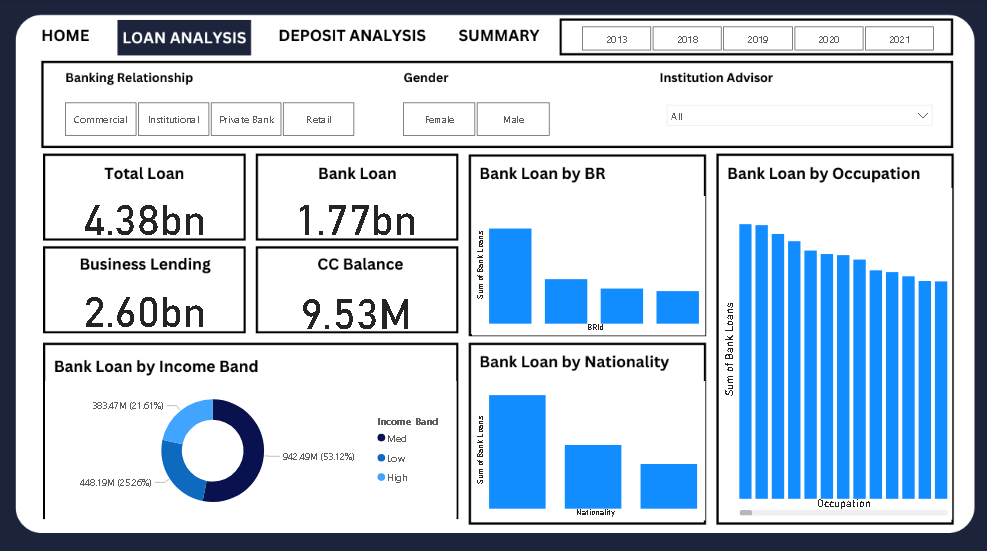

The dashboard page shown, as its layout file describes it:
{"tool":"powerbi","page":{"name":"Loan Analysis","canvas":[1280,720],"ordinal":1},"visuals":[{"type":"slicer","fields":{"Values":["banking_case customer.Year of Joining"]},"box":[727.3,30.2,503.9,45.4],"z":0},{"type":"actionButton","box":[43.7,30.2,94.1,45.4],"z":1000},{"type":"actionButton","box":[354.4,30.2,203.3,45.4],"z":2000},{"type":"actionButton","box":[577.8,30.2,136.1,45.4],"z":3000},{"type":"card","fields":{"Values":["banking_case customer.Total Loan"]},"box":[60.5,245.2,258.7,68.9],"z":4000},{"type":"card","fields":{"Values":["Sum(banking_case customer.Bank Loans)"]},"box":[332.6,245.2,258.7,68.9],"z":5000},{"type":"card","fields":{"Values":["Sum(banking_case customer.Business Lending)"]},"box":[60.5,364.5,258.7,68.9],"z":6000},{"type":"card","fields":{"Values":["Sum(banking_case customer.Credit Card Balance)"]},"box":[332.6,366.2,258.7,68.9],"z":7000},{"type":"donutChart","fields":{"Category":["banking_case customer.Income Band"],"Y":["Sum(banking_case customer.Bank Loans)"]},"box":[60.5,493.9,530.8,179.7],"z":8000},{"type":"clusteredColumnChart","fields":{"Category":["banking_case customer.BRId"],"Y":["Sum(banking_case customer.Bank Loans)"]},"box":[611.4,255.3,300.7,179.7],"z":9000},{"type":"clusteredColumnChart","fields":{"Category":["banking_case customer.Nationality"],"Y":["Sum(banking_case customer.Bank Loans)"]},"box":[611.4,493.9,300.7,179.7],"z":9001},{"type":"clusteredColumnChart","fields":{"Category":["banking_case customer.Occupation"],"Y":["Sum(banking_case customer.Bank Loans)"]},"box":[930.6,245.2,300.7,428.3],"z":9002},{"type":"slicer","fields":{"Values":["banking_case customer.BRId"]},"box":[60.5,127.7,423.3,57.1],"z":9003},{"type":"slicer","fields":{"Values":["banking_case customer.GenderId"]},"box":[497.2,127.7,238.5,57.1],"z":9004},{"type":"slicer","fields":{"Values":["banking_case customer.IAId"]},"box":[853.3,127.7,362.8,52.1],"z":9005}]}

Visuals, with their boxes in screenshot pixels (x1, y1, x2, y2), scaled from the page's 1280x720 canvas onto the 987x551 screenshot:
slicer - banking_case customer.Year of Joining: [561, 23, 949, 58]
actionButton: [34, 23, 106, 58]
actionButton: [273, 23, 430, 58]
actionButton: [446, 23, 550, 58]
card - banking_case customer.Total Loan: [47, 188, 246, 240]
card - Sum(banking_case customer.Bank Loans): [256, 188, 456, 240]
card - Sum(banking_case customer.Business Lending): [47, 279, 246, 332]
card - Sum(banking_case customer.Credit Card Balance): [256, 280, 456, 333]
donutChart - banking_case customer.Income Band x Sum(banking_case customer.Bank Loans): [47, 378, 456, 515]
clusteredColumnChart - banking_case customer.BRId x Sum(banking_case customer.Bank Loans): [471, 195, 703, 333]
clusteredColumnChart - banking_case customer.Nationality x Sum(banking_case customer.Bank Loans): [471, 378, 703, 515]
clusteredColumnChart - banking_case customer.Occupation x Sum(banking_case customer.Bank Loans): [718, 188, 949, 515]
slicer - banking_case customer.BRId: [47, 98, 373, 141]
slicer - banking_case customer.GenderId: [383, 98, 567, 141]
slicer - banking_case customer.IAId: [658, 98, 938, 138]
